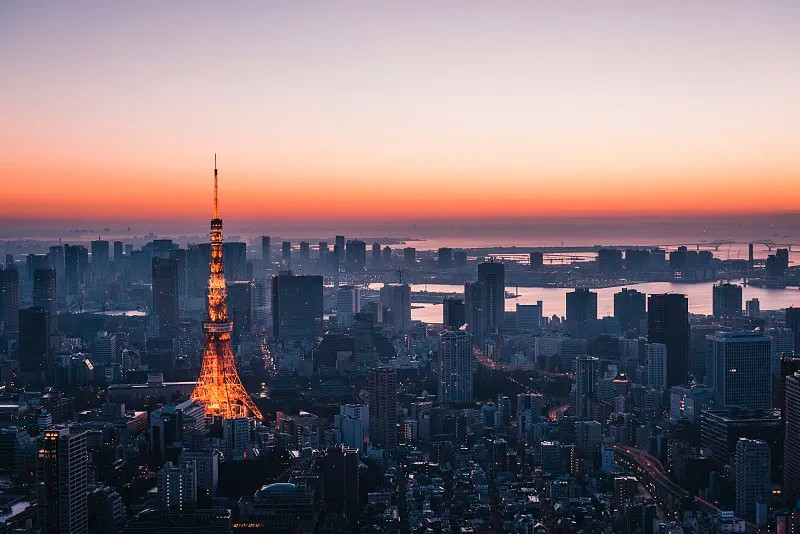Tokyo: (186, 149, 266, 422)
